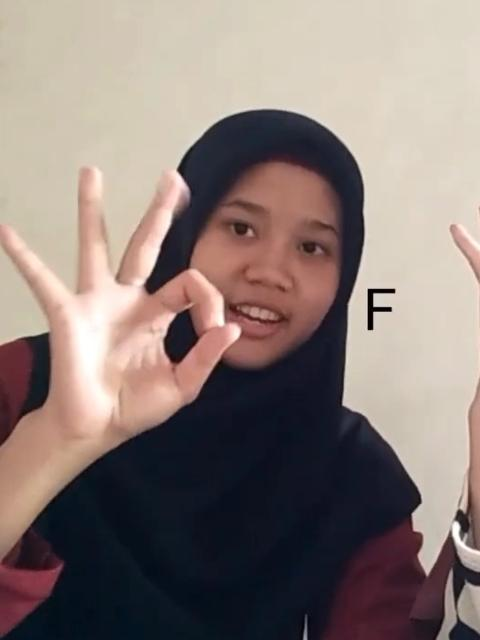F: (0, 157, 240, 455)
